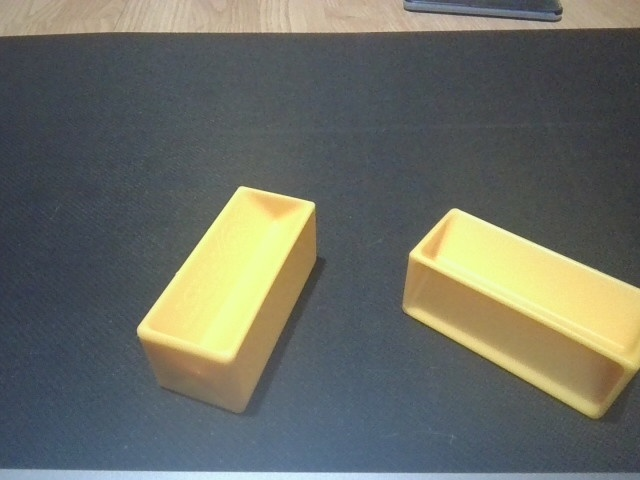YellowSample: (399, 205, 640, 425), (133, 181, 323, 418)
